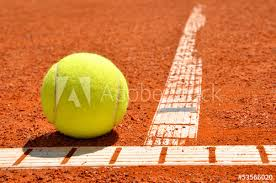tennis_ball: (41, 51, 130, 140)
